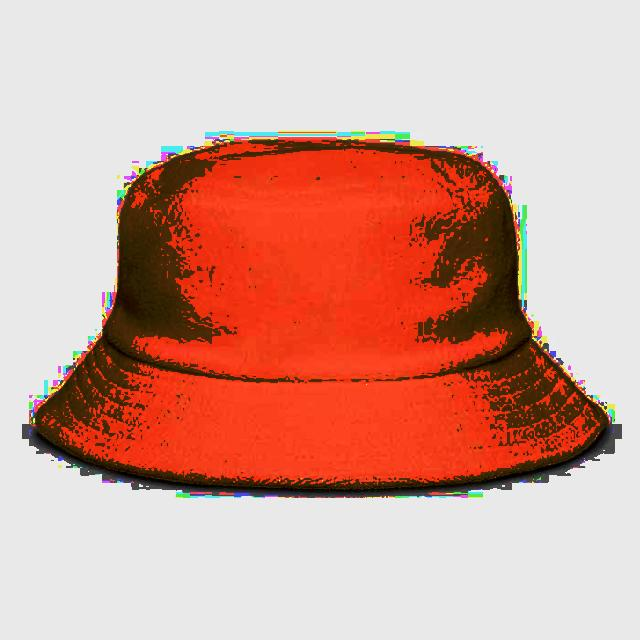TOPI: (26, 132, 612, 496)
